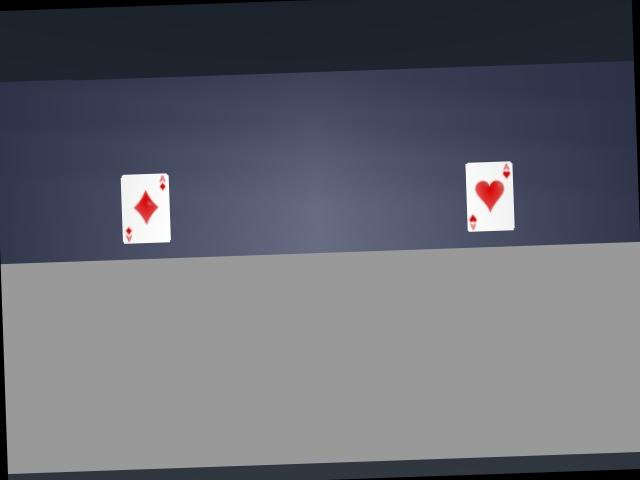diamond: (121, 173, 170, 243)
heart: (465, 162, 514, 231)
